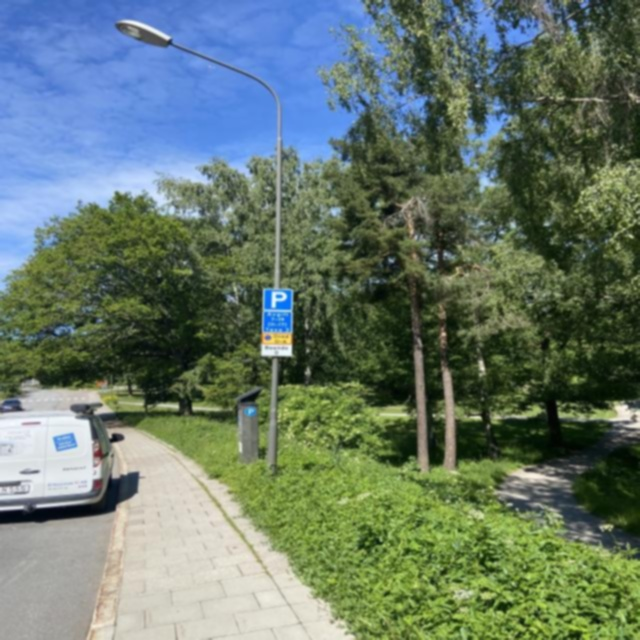P-skylt: (262, 287, 294, 312)
